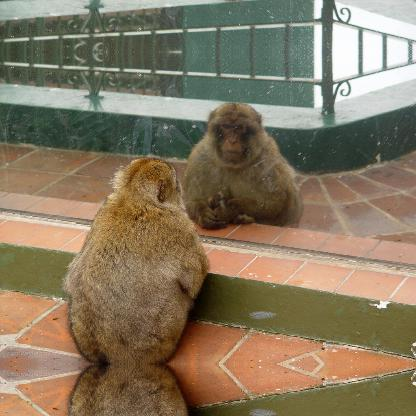Monkey: (62, 156, 210, 364), (62, 364, 211, 415)
